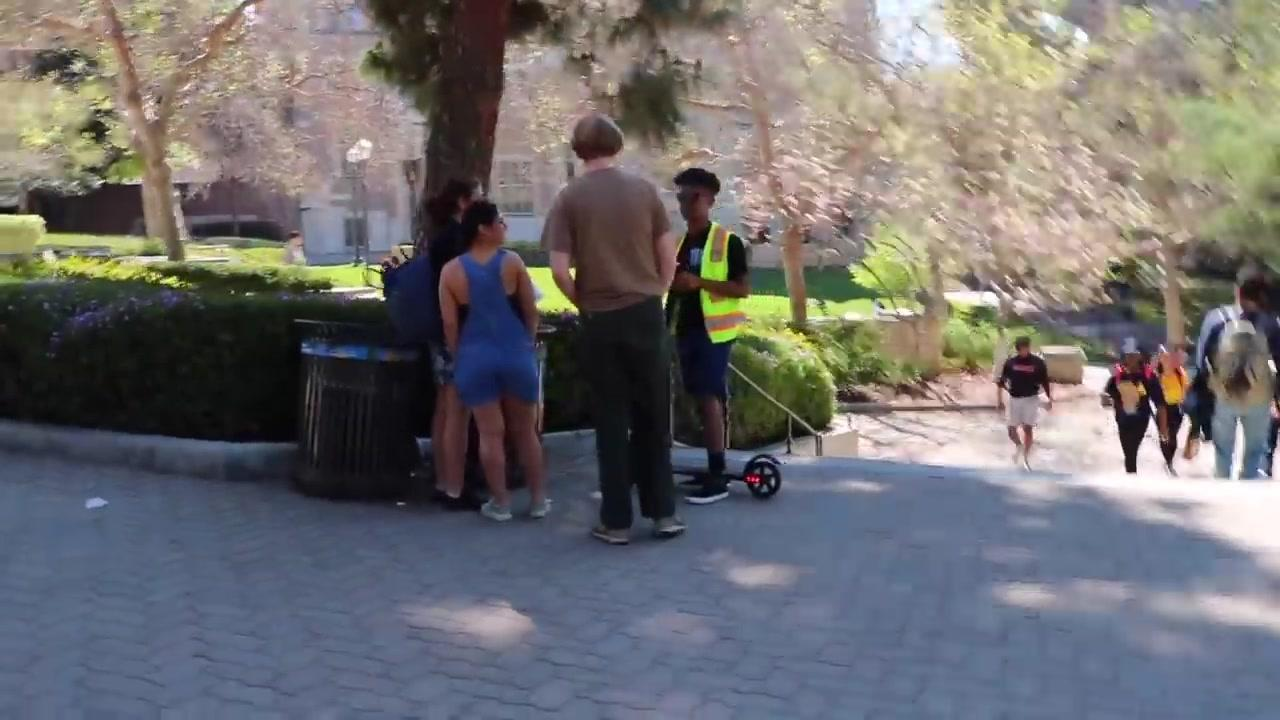vest: (671, 220, 748, 345)
